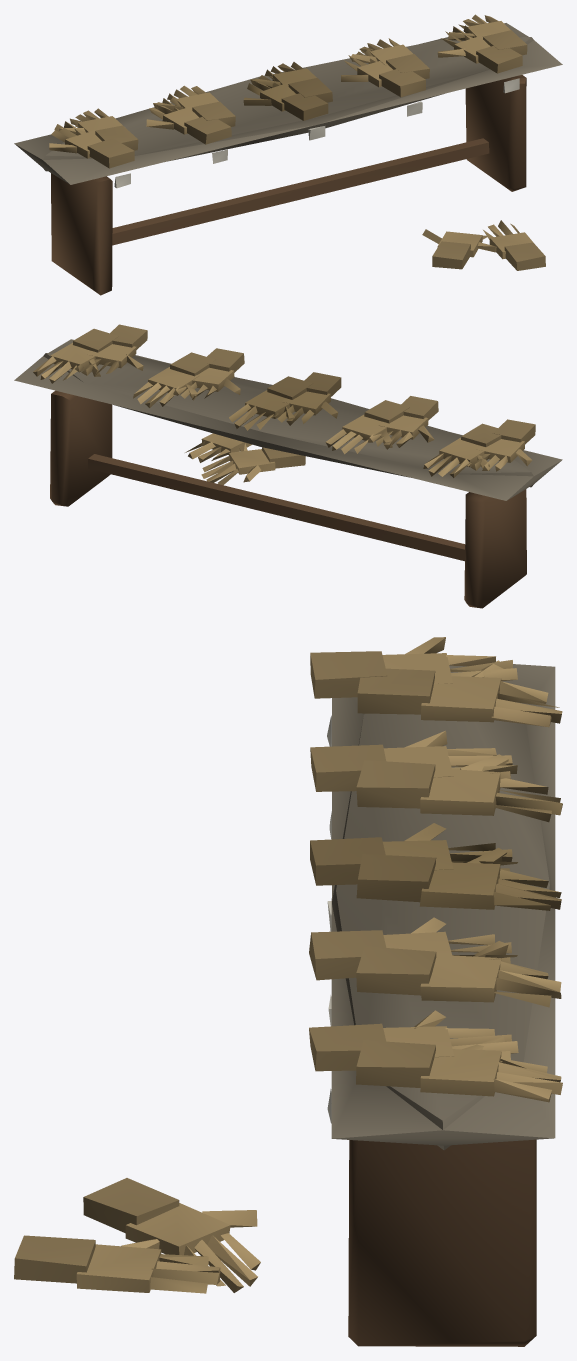
Rendered from glove_bench_b_lod1.glb.
The picture shows the model from 3 angles, top to bottom: view 1: azimuth 30°, elevation 25°; view 2: azimuth 150°, elevation 25°; view 3: azimuth 270°, elevation 25°; orthographic projection. The views are drawn at different scales.
Visible parts, largest first — view 1: Surface.001; view 2: Surface.001; view 3: Surface.001.
Part boxes in pixels (<box>): Surface.001: <box>14,14,562,295</box>; Surface.001: <box>14,324,562,608</box>; Surface.001: <box>14,637,562,1346</box>.
Size of the model in its own units: 1.9 by 0.5747 by 0.9325.
